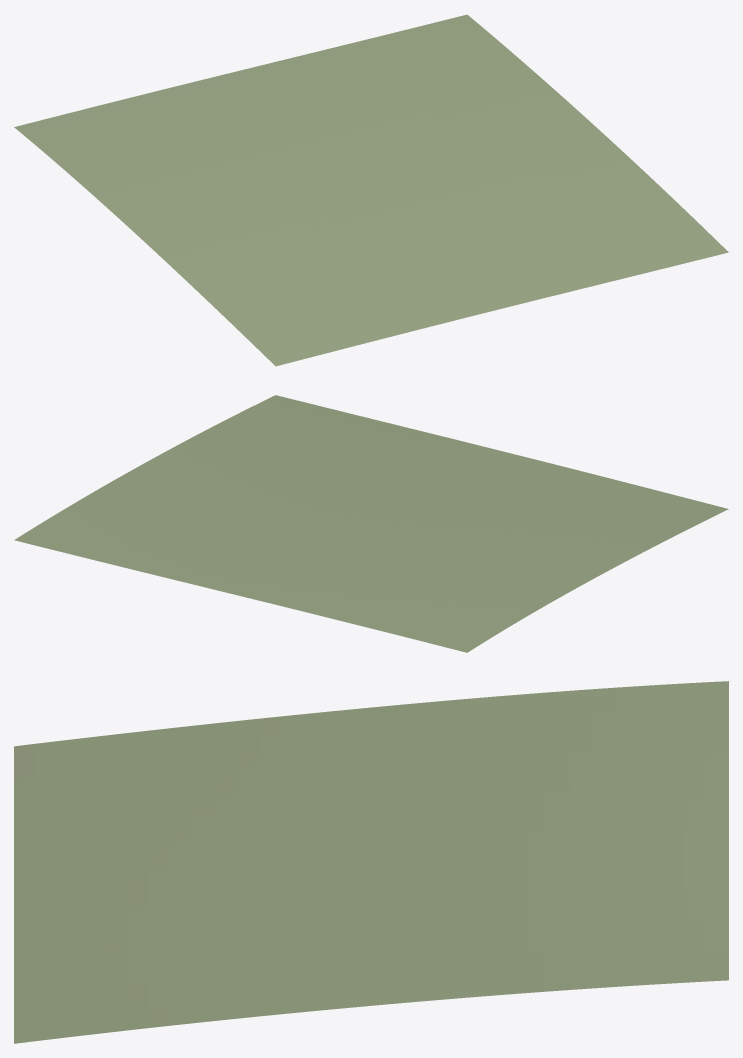
Rendered from desert-29-9.glb.
The picture shows the model from 3 angles, top to bottom: view 1: azimuth 30°, elevation 25°; view 2: azimuth 150°, elevation 25°; view 3: azimuth 270°, elevation 25°; orthographic projection. The views are drawn at different scales.
Visible parts, largest first — view 1: desert-29-9; view 2: desert-29-9; view 3: desert-29-9.
Part boxes in pixels (bbox=[...]): desert-29-9: bbox=[14, 14, 728, 366]; desert-29-9: bbox=[14, 395, 728, 652]; desert-29-9: bbox=[14, 681, 728, 1043].
Size of the model in its own units: 512 by 53.82 by 512.
